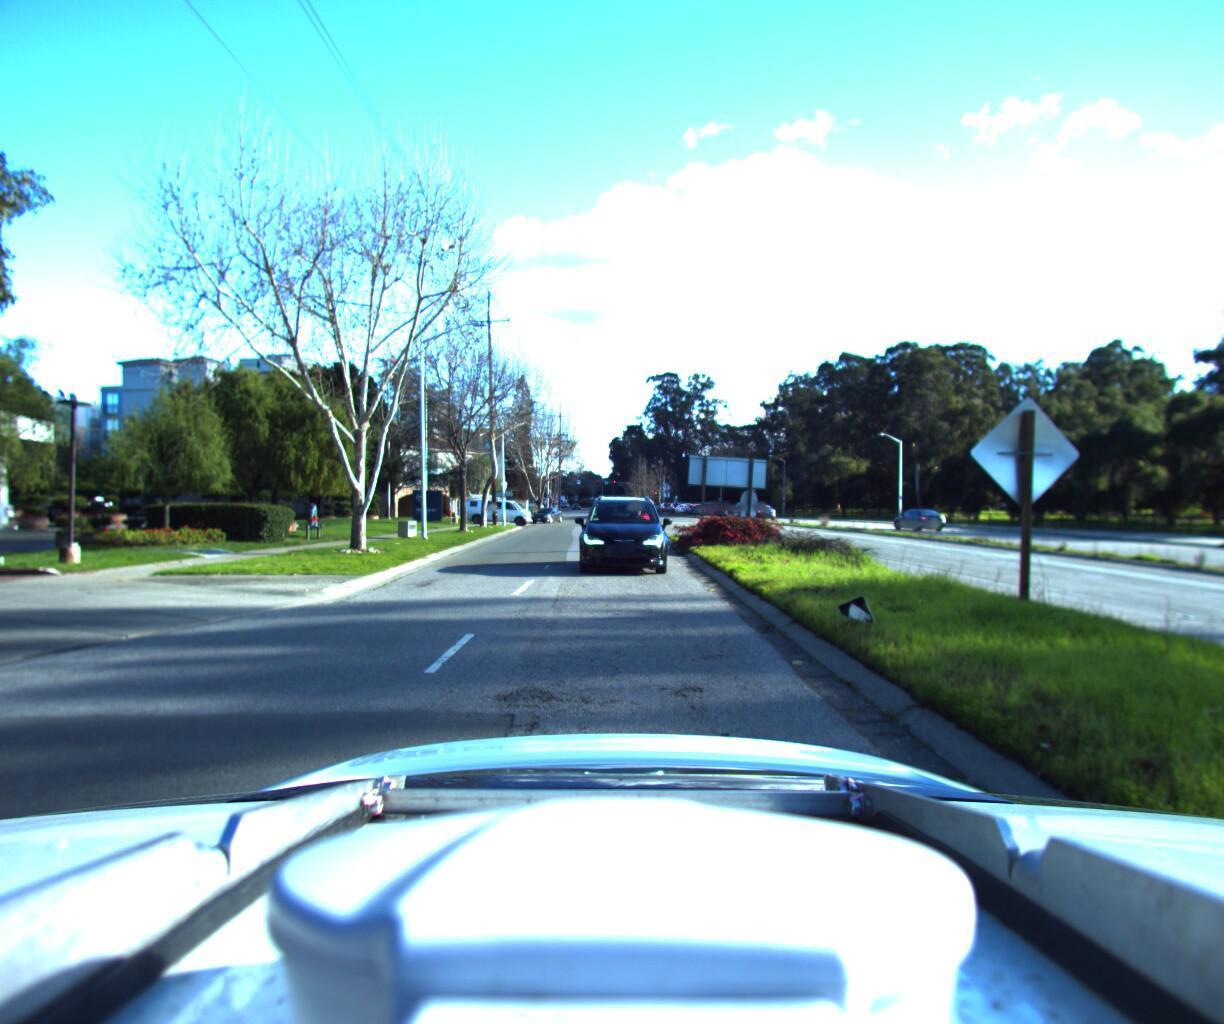car: (565, 488, 662, 575), (457, 488, 532, 521), (883, 499, 939, 522), (0, 493, 23, 521), (526, 497, 561, 515), (743, 497, 776, 513)
